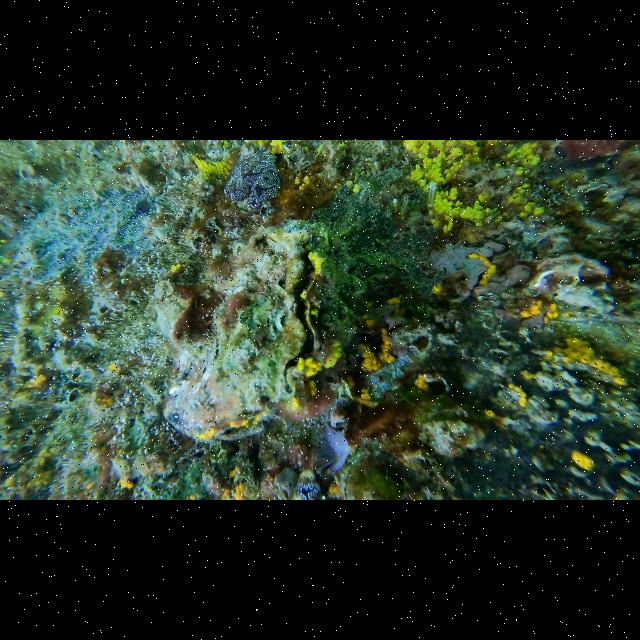Oyster-Open: (165, 227, 323, 441)
